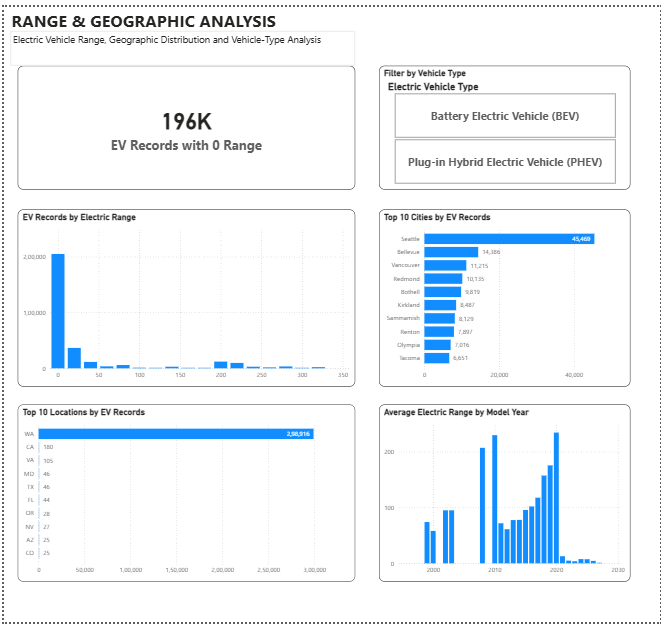

What the dashboard file says about the page in this screenshot:
{"tool":"powerbi","page":{"name":"Range & Geographic Analysis","canvas":[1280,1200],"ordinal":2},"visuals":[{"type":"textbox","box":[10.8,0,535.4,64.6],"z":0},{"type":"clusteredColumnChart","title":"Average Electric Range by Model Year","fields":{"Category":["export.Model Year"],"Y":["Avg(export.Electric Range)"]},"box":[732.1,775.5,490.6,345.3],"z":1000},{"type":"clusteredBarChart","title":"Top 10 Locations by EV Records","fields":{"Category":["export.State"],"Y":["export.Total EVs"]},"box":[26.4,775.5,658.5,345.3],"z":2000},{"type":"clusteredBarChart","title":"Top 10 Cities by EV Records","fields":{"Category":["export.City"],"Y":["export.Total EVs"]},"box":[732.1,396.2,490.6,345.3],"z":3000},{"type":"clusteredColumnChart","title":"EV Records by Electric Range","fields":{"Category":["export.Electric Range (bins)"],"Y":["export.Total EVs"]},"box":[26.4,396.2,658.5,345.3],"z":4000},{"type":"slicer","title":"Filter by Vehicle Type","fields":{"Values":["export.Electric Vehicle Type"]},"box":[732.1,115.1,490.6,241.5],"z":5000},{"type":"card","fields":{"Values":["export.Zero Range EVs"]},"box":[26.4,115.1,658.5,241.5],"z":6000},{"type":"textbox","box":[11.3,47.2,673.6,67.9],"z":7000}]}

Visuals, with their boxes in screenshot pixels (x1, y1, x2, y2), scaled from the page's 1280x1200 canvas onto the 662x625 screenshot:
textbox: 6 0 282 34
"Average Electric Range by Model Year" clusteredColumnChart: 379 404 632 584
"Top 10 Locations by EV Records" clusteredBarChart: 14 404 354 584
"Top 10 Cities by EV Records" clusteredBarChart: 379 206 632 386
"EV Records by Electric Range" clusteredColumnChart: 14 206 354 386
"Filter by Vehicle Type" slicer: 379 60 632 186
card - export.Zero Range EVs: 14 60 354 186
textbox: 6 25 354 60
